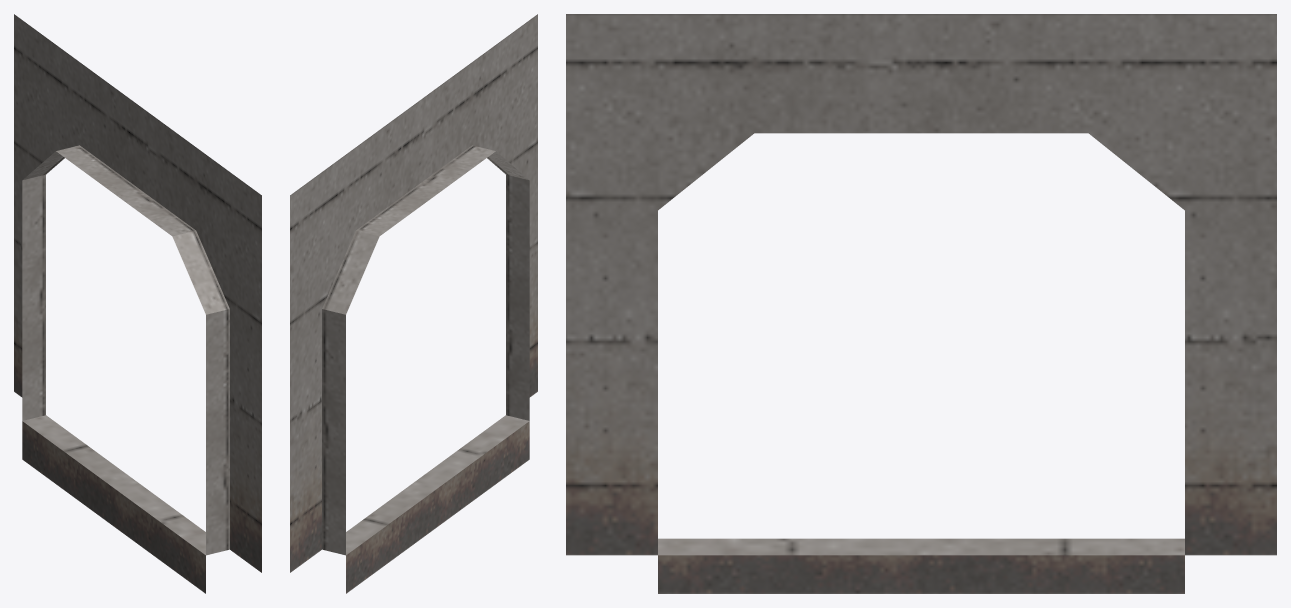
File: MESH_ESGOTO_WALL_ENTRY.fbx
3 views of the same model, side by side, from view 1: azimuth 30°, elevation 25°; view 2: azimuth 150°, elevation 25°; view 3: azimuth 270°, elevation 25° (orthographic). The views are drawn at different scales.
Parts seen in each view (by area): view 1: MESH_ESGOTO_WALL_ENTRY; view 2: MESH_ESGOTO_WALL_ENTRY; view 3: MESH_ESGOTO_WALL_ENTRY.
Part boxes in pixels (x1,y1,x2,y2): MESH_ESGOTO_WALL_ENTRY: (14,14,261,593); MESH_ESGOTO_WALL_ENTRY: (290,14,537,593); MESH_ESGOTO_WALL_ENTRY: (566,14,1276,593).
Bounding box in the file's own units: 0.3003 × 5 × 5.4.
